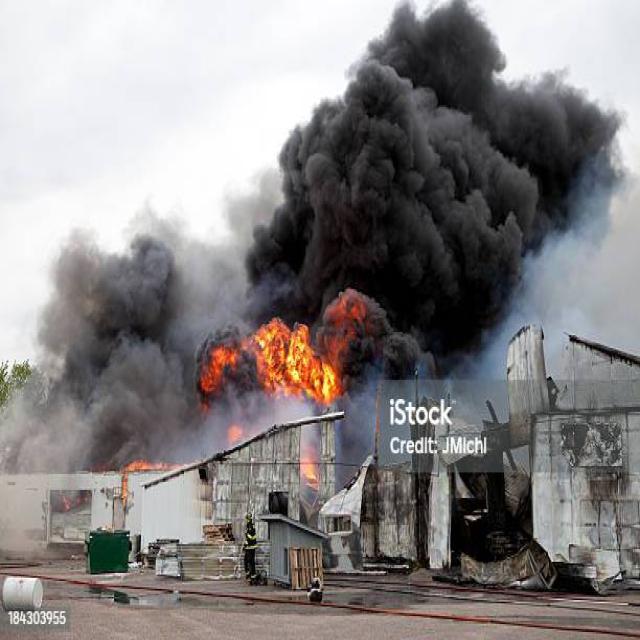Fire: (184, 319, 346, 404)
Smoke: (227, 0, 637, 314), (0, 225, 181, 463)
